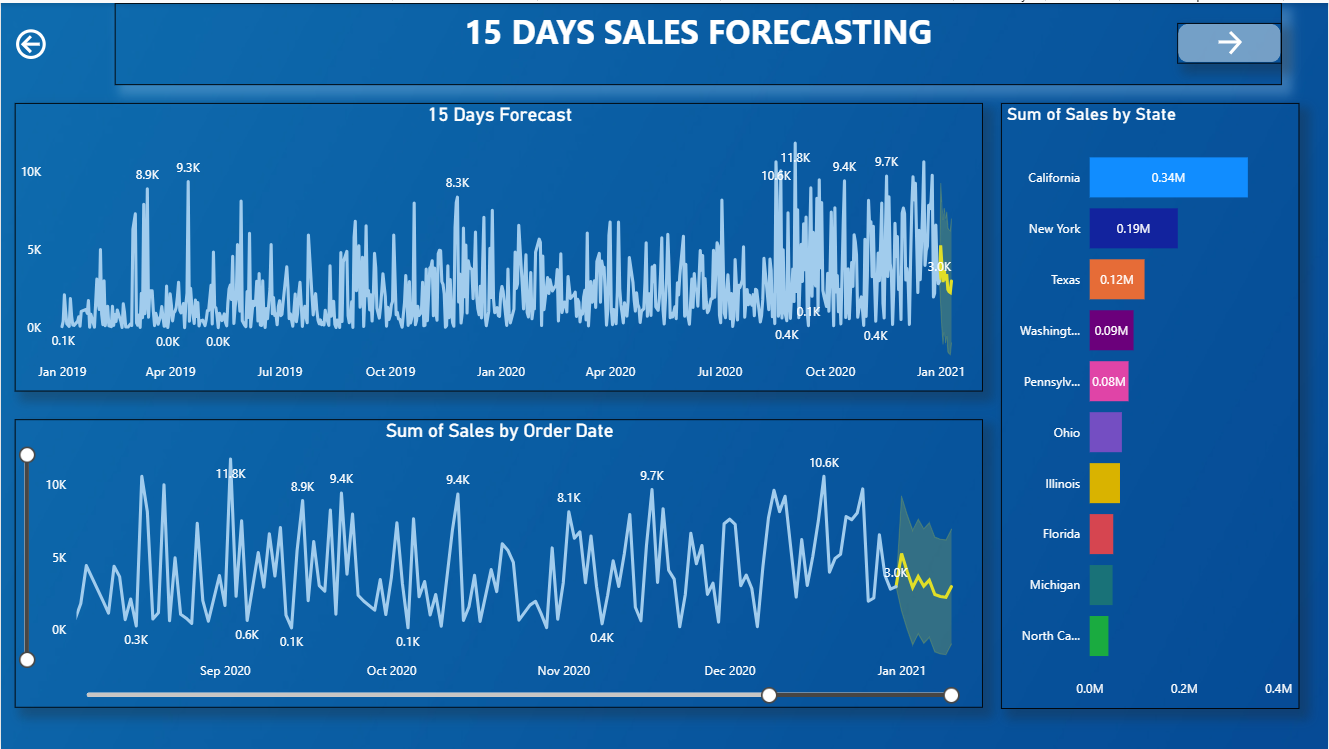

The page's visual inventory and layout, read from the dashboard file:
{"tool":"powerbi","page":{"name":"Forecasting","canvas":[1280,720],"ordinal":1},"visuals":[{"type":"textbox","box":[109.8,0,1126.6,79.6],"z":0},{"type":"lineChart","title":"15 Days Forecast","fields":{"Y":["Sum(Sales_Dataset_proj2.Sales)"],"Category":["Sales_Dataset_proj2.Order Date"]},"box":[13.7,96.1,934.5,278.6],"z":1000},{"type":"lineChart","fields":{"Y":["Sum(Sales_Dataset_proj2.Sales)"],"Category":["Sales_Dataset_proj2.Order Date"]},"box":[13.7,402.1,934.5,278.6],"z":2000},{"type":"barChart","title":"Sum of Sales by State","fields":{"Category":["Sales_Dataset_proj2.State"],"Y":["Sum(Sales_Dataset_proj2.Sales)"],"Series":["Sales_Dataset_proj2.State"]},"box":[964.7,96.1,288.2,584.6],"z":3000},{"type":"actionButton","box":[9.6,20.6,49.4,38.4],"z":4000},{"type":"actionButton","box":[1135.1,18.9,101,39.1],"z":4001}]}

Visuals, with their boxes in screenshot pixels (x1, y1, x2, y2), scaled from the page's 1280x720 canvas onto the 1329x749 screenshot:
textbox: bbox=[114, 0, 1284, 83]
"15 Days Forecast" lineChart: bbox=[14, 100, 984, 390]
lineChart - Sum(Sales_Dataset_proj2.Sales) x Sales_Dataset_proj2.Order Date: bbox=[14, 418, 984, 708]
"Sum of Sales by State" barChart: bbox=[1002, 100, 1301, 708]
actionButton: bbox=[10, 21, 61, 61]
actionButton: bbox=[1179, 20, 1283, 60]
